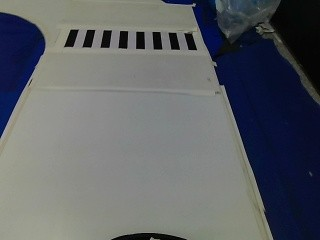crosswalk: (60, 26, 203, 53)
